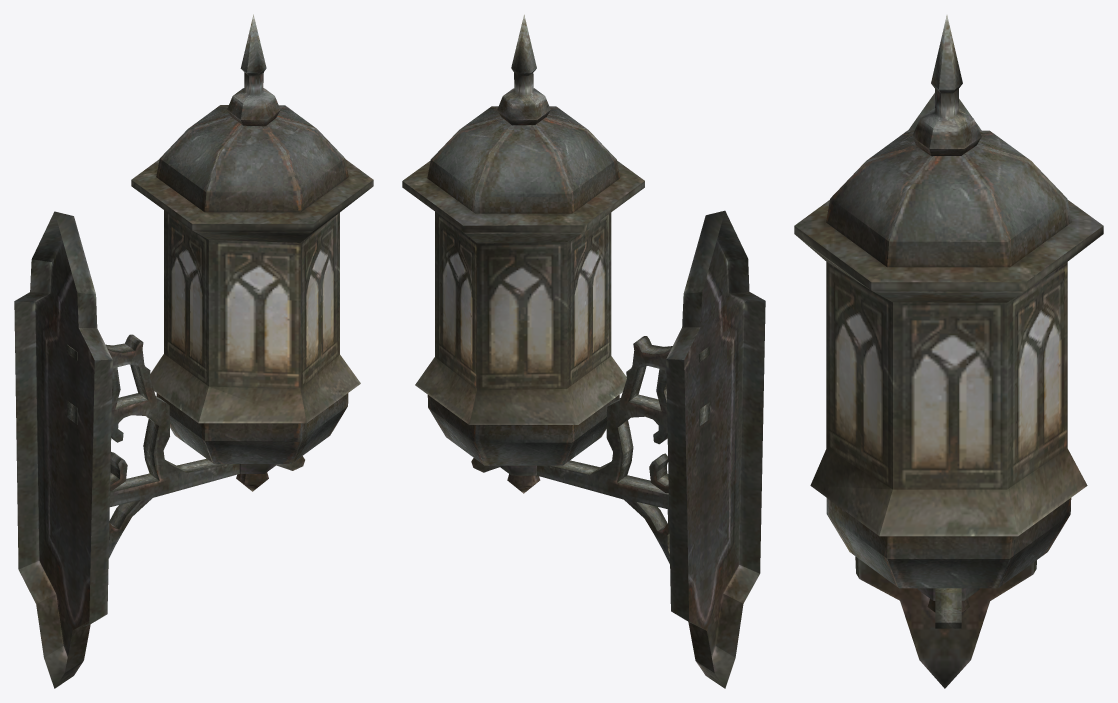
Rendered from bg_lut_lucastle_streetlight03_sm_artree.FBX.
3 renders of one model, left to right at view 1: azimuth 30°, elevation 25°; view 2: azimuth 150°, elevation 25°; view 3: azimuth 270°, elevation 25°, orthographic. The views are drawn at different scales.
Visible parts, largest first — view 1: bg_lut_lucastle_streetlight03_sm_artree; view 2: bg_lut_lucastle_streetlight03_sm_artree; view 3: bg_lut_lucastle_streetlight03_sm_artree.
Part boxes in pixels (x1=…): bg_lut_lucastle_streetlight03_sm_artree: x1=14, y1=14, x2=373, y2=688; bg_lut_lucastle_streetlight03_sm_artree: x1=402, y1=14, x2=765, y2=688; bg_lut_lucastle_streetlight03_sm_artree: x1=794, y1=15, x2=1103, y2=688.
Bounding box in the file's own units: 51.46 × 106 × 37.19.
